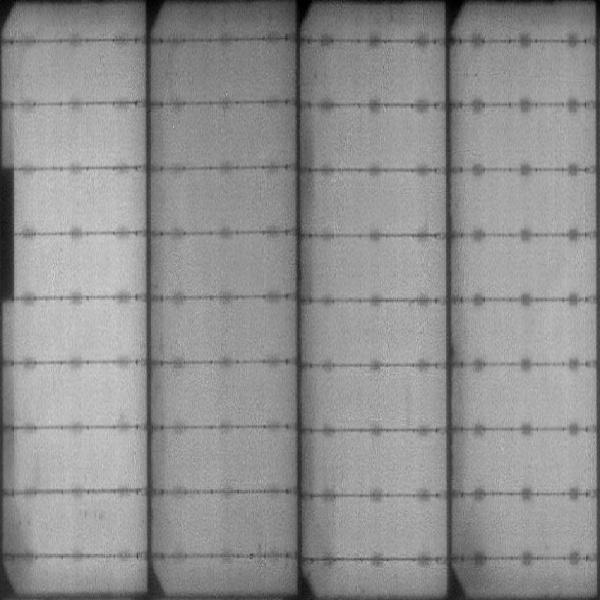black_border: (1, 166, 18, 304)
